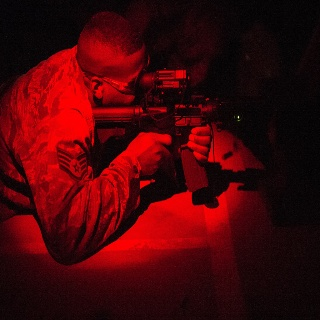rifle: (90, 66, 274, 199)
